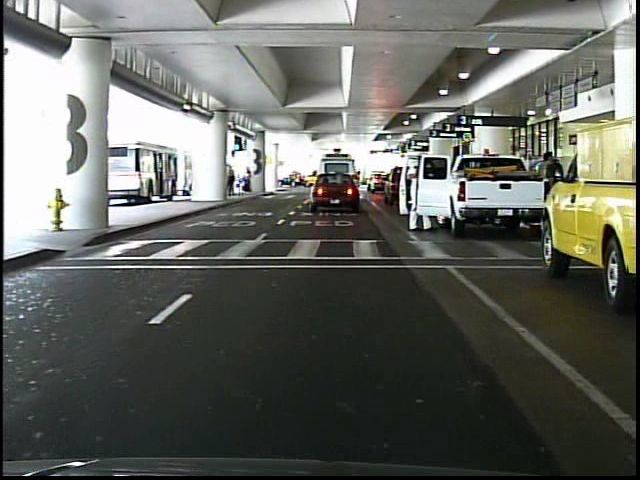person: (406, 148, 437, 235), (242, 165, 256, 195), (227, 163, 237, 198)
